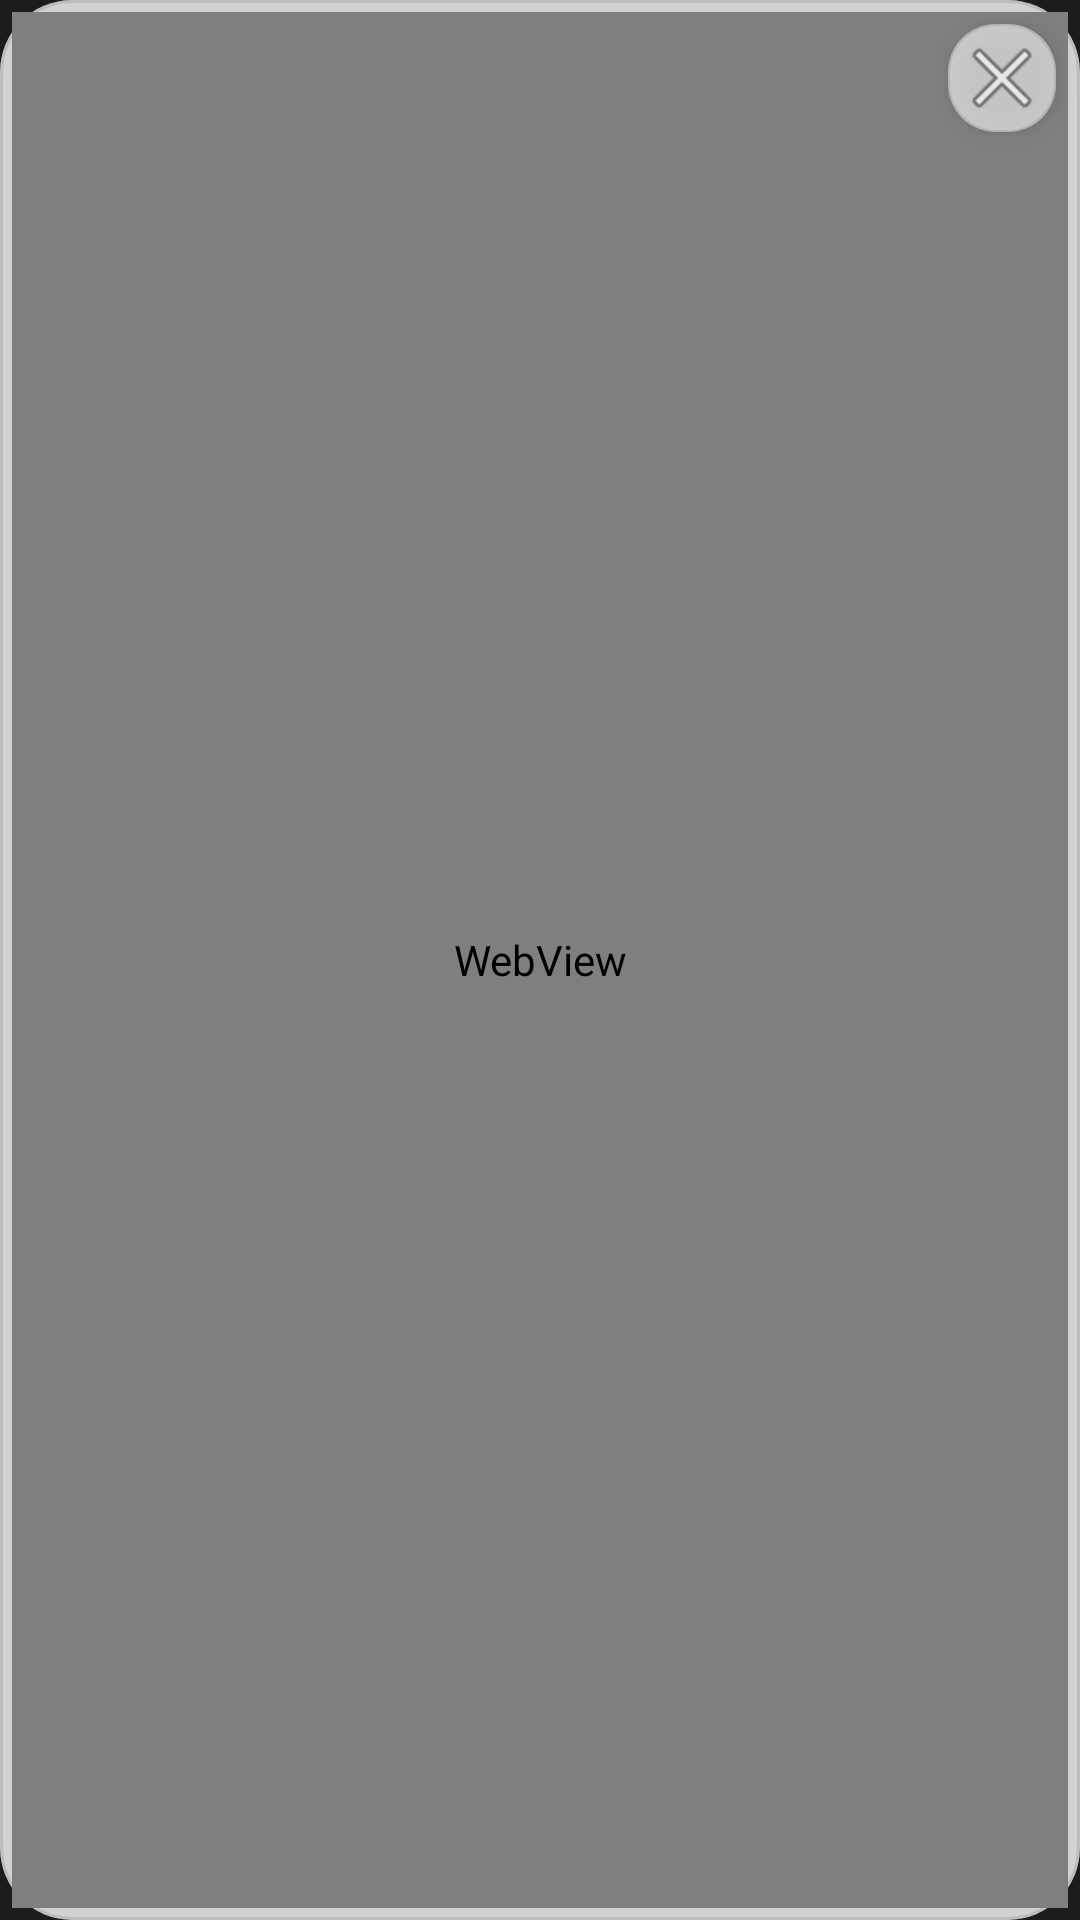

Point at icon controls on the screen. Image size 1080w x 1920h, points as [x,y].
关闭悬浮窗: [1002,78]
